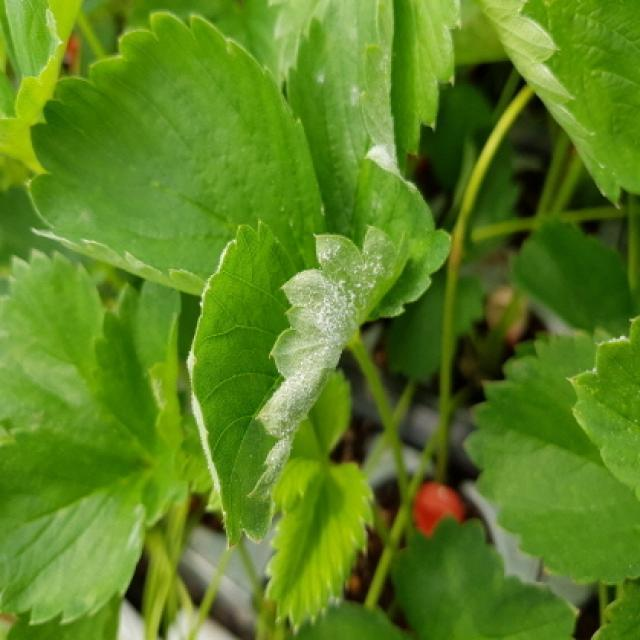powdery_mildew_leaf: (188, 217, 413, 549), (283, 0, 455, 326)
